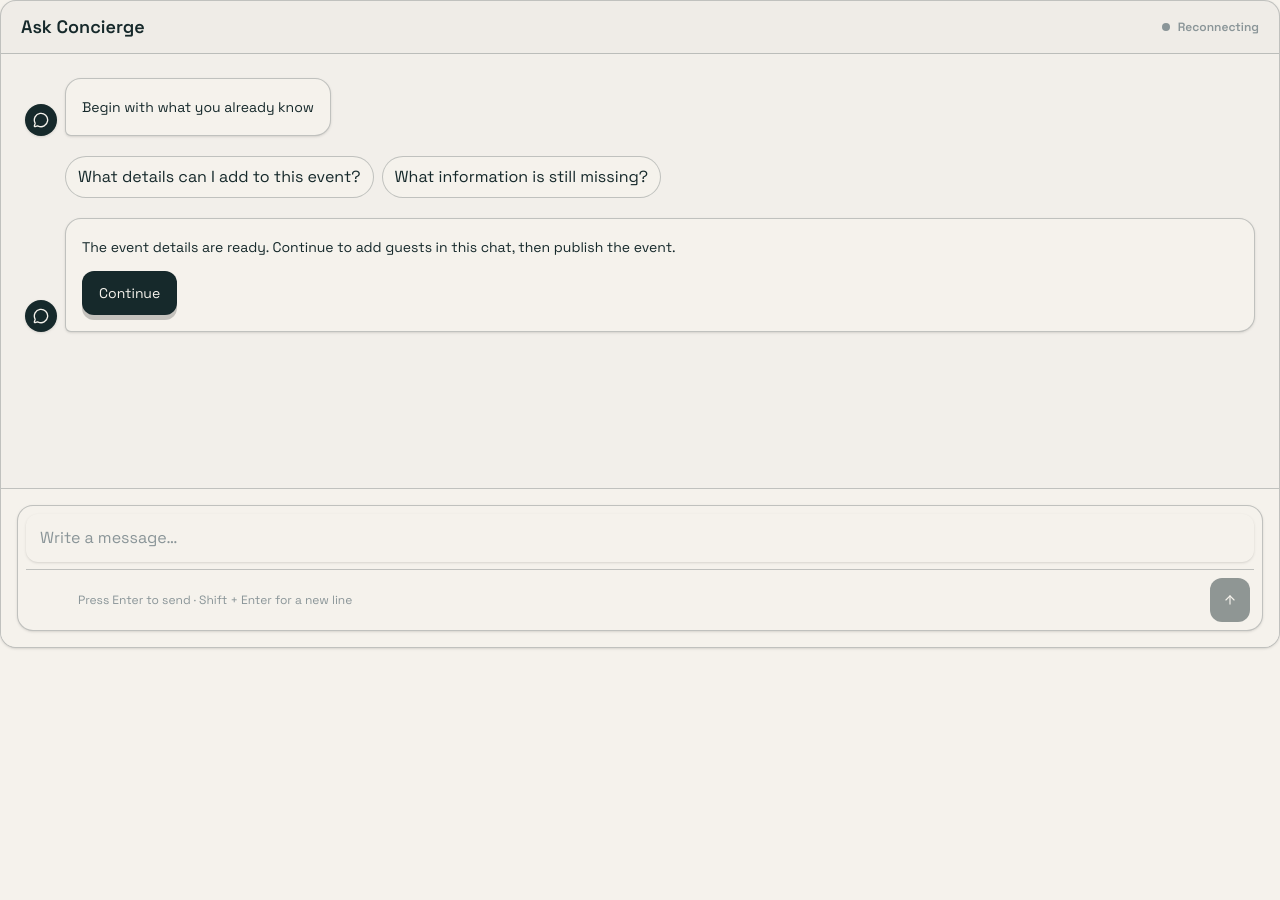
Test: ConciergeWorkspace › continues from ready details through guest chat and publishes in the conversation
Click the button "Continue" at coordinates (130, 293), box [82,271,177,315]
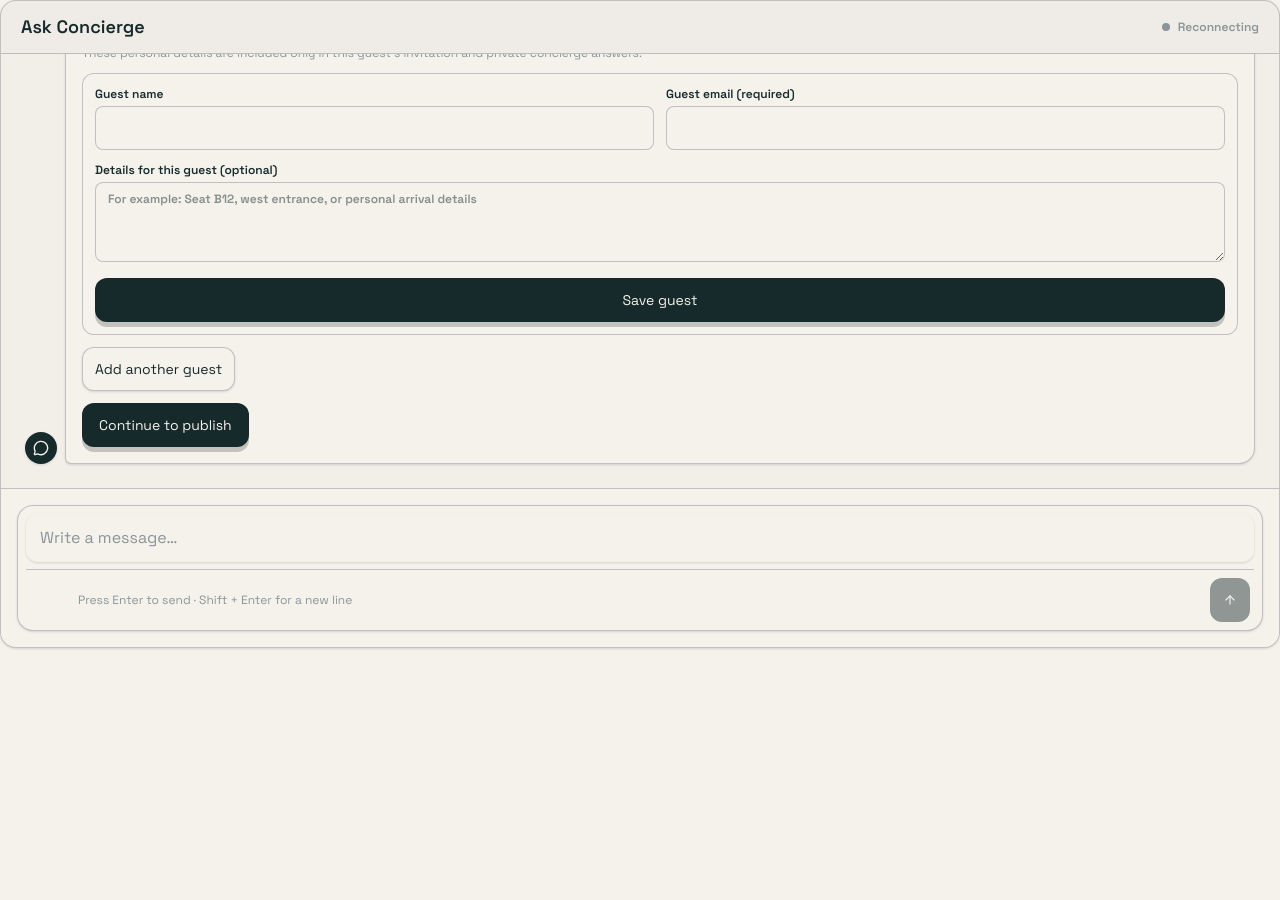
Type "Alex Morgan, alex@example.com; Sam Lee, sam@example.com" into the text box labelled "Write a message…" at coordinates (640, 538), box [26,514,1254,562]
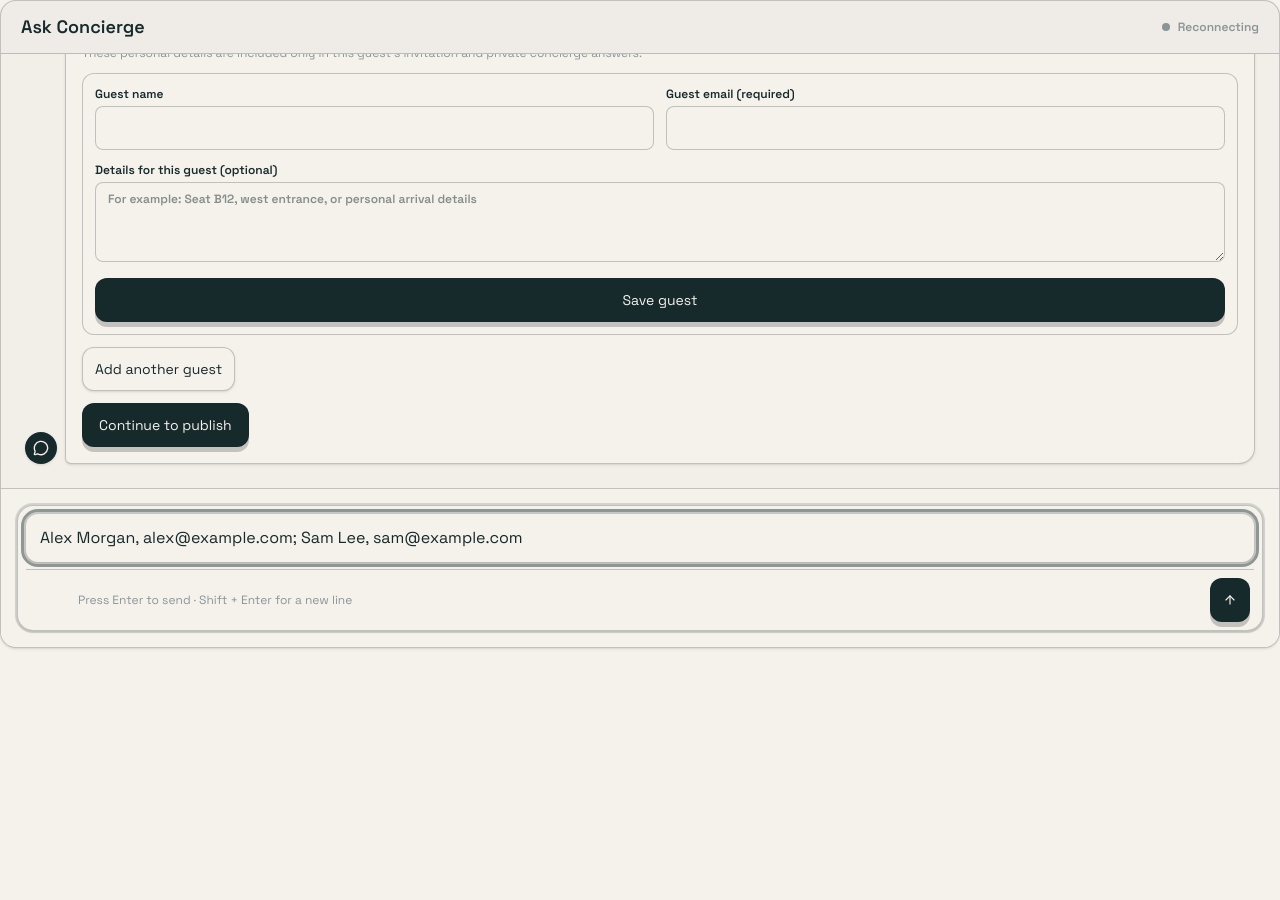
Click the button named "Send message" at coordinates (1230, 600), box [1210,578,1250,622]
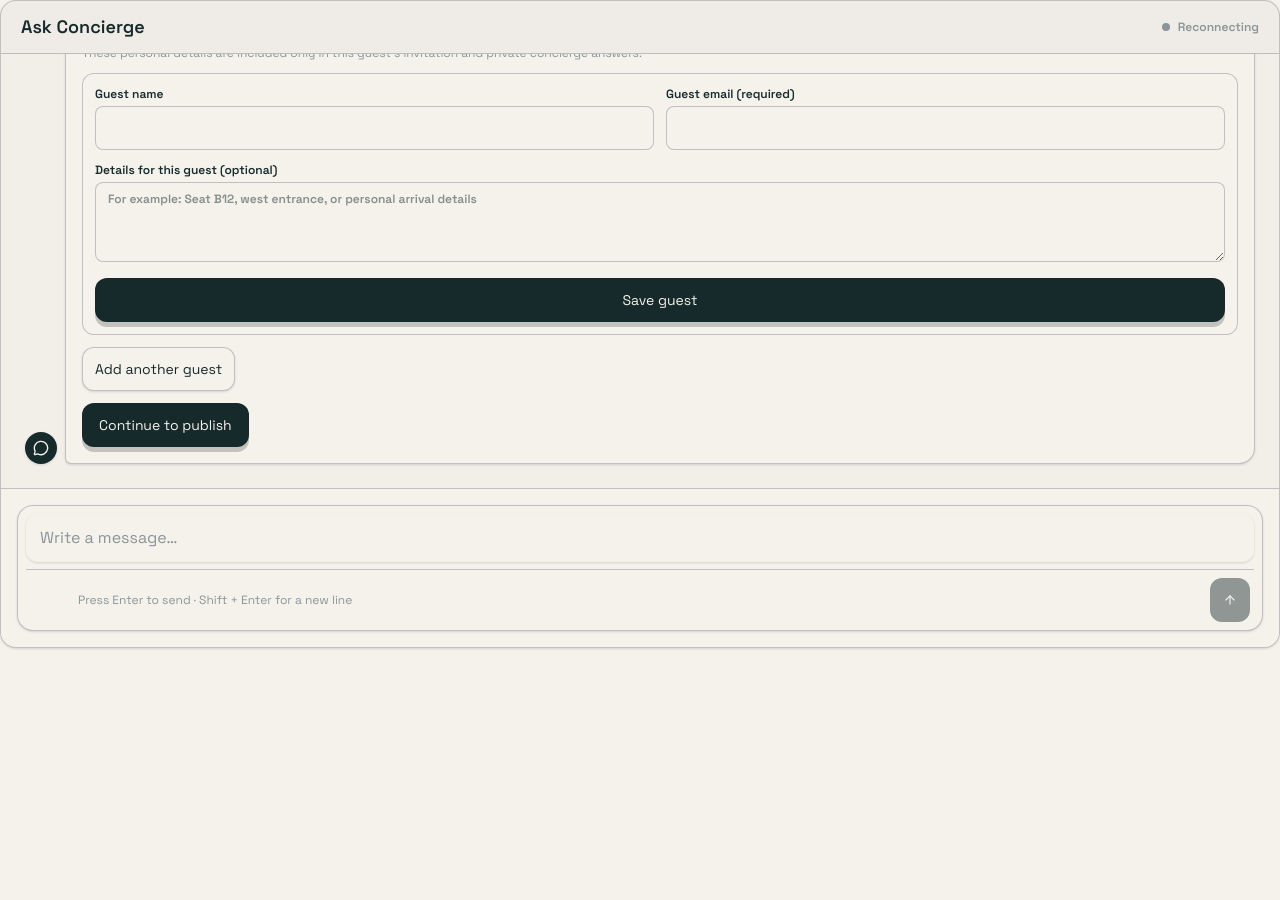
Click the button "Continue to publish" at coordinates (165, 425), box [82,403,249,447]
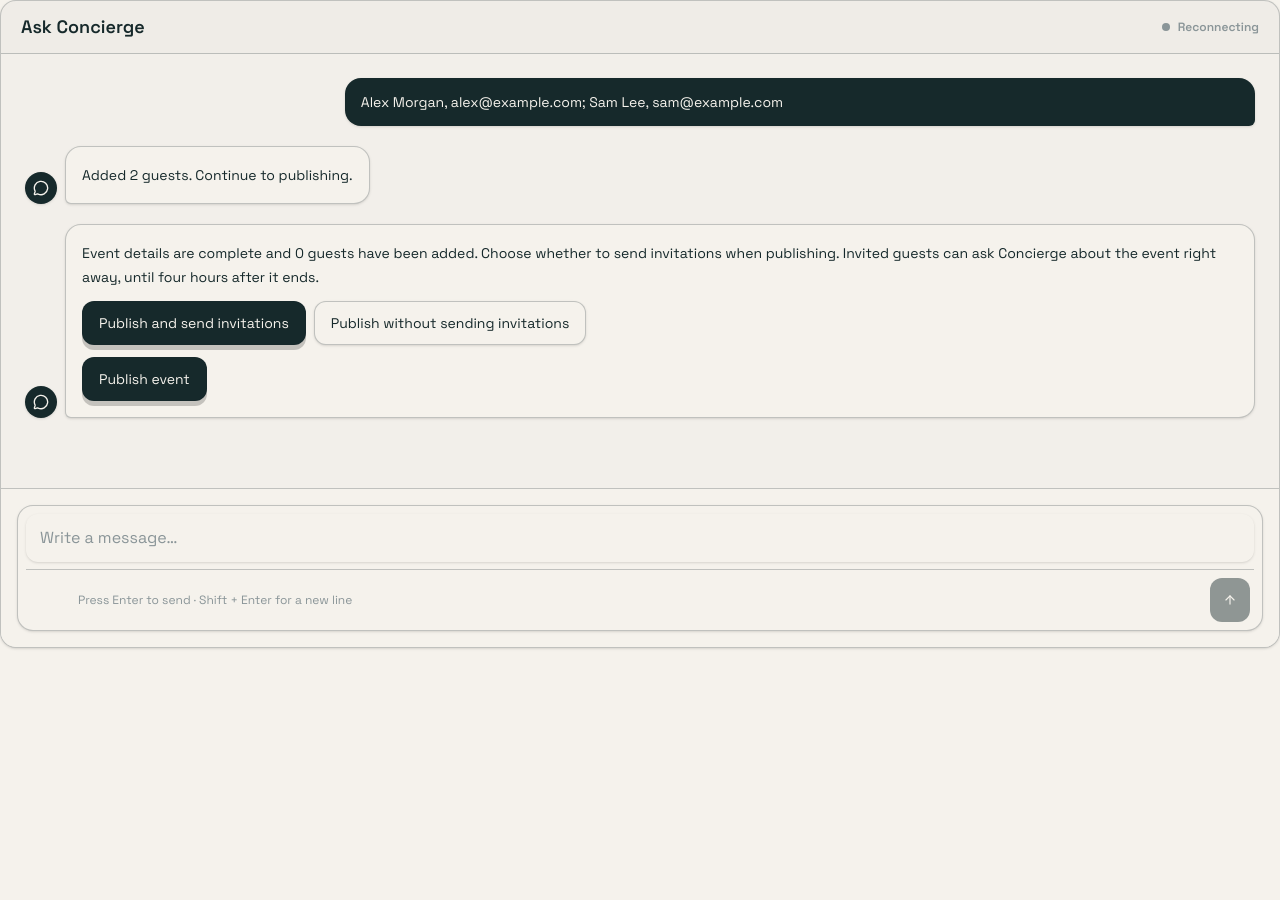
Click the button "Publish event" at coordinates (144, 379), box [82,357,207,401]
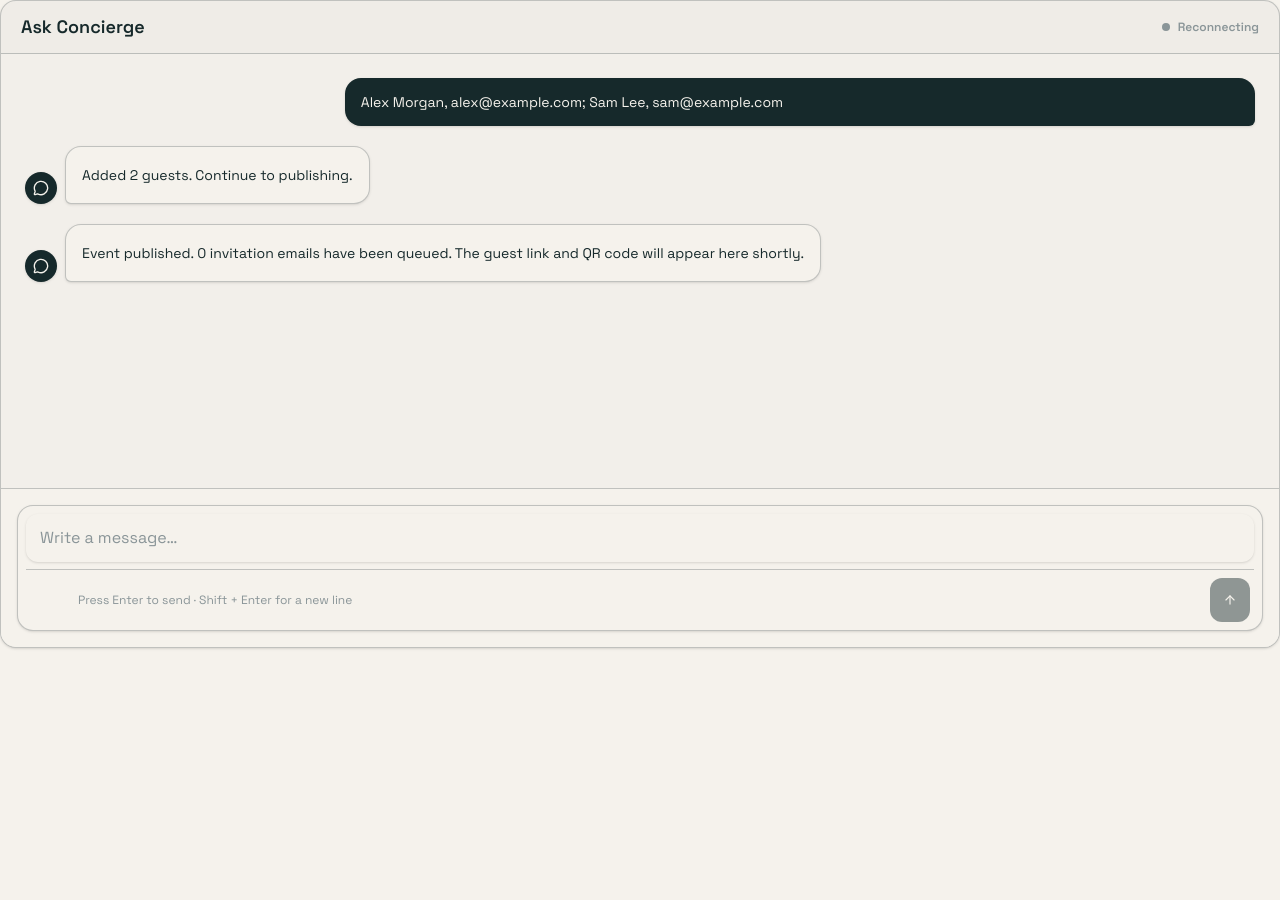
Check: the text "Event published" is shown, box [82,244,804,262]
